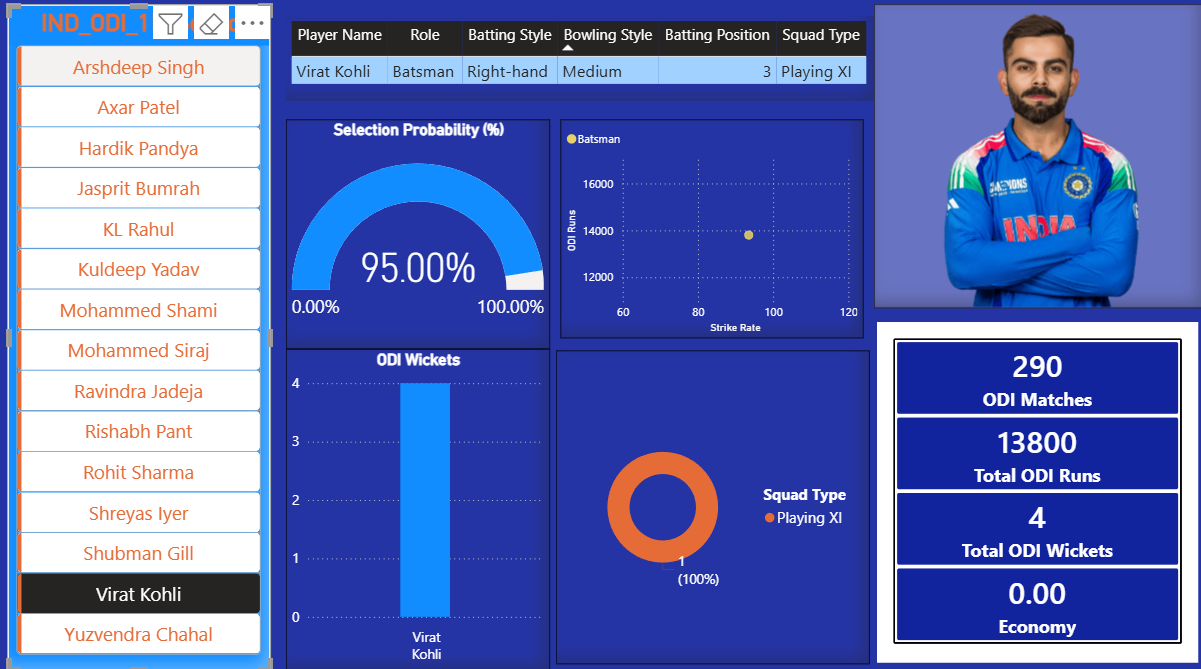

The dashboard page shown, as its layout file describes it:
{"tool":"powerbi","page":{"name":"Duplicate of Page 1","canvas":[1280,720],"ordinal":1},"visuals":[{"type":"advancedSlicerVisual","title":"IND_ODI_15_Squad","fields":{"Values":["India_Probable_15_ODI_Squad.Player Name"]},"box":[9.5,12.7,279.9,707.8],"z":0},{"type":"imageDB603108E3FF4EBFB8047F5653368E8C","fields":{"imageUrl":["India_Probable_15_ODI_Squad.Selected_Image"]},"box":[928.9,12.7,351.5,322.9],"z":1000},{"type":"cardVisual","fields":{"Data":["Sum(India_Probable_15_ODI_Squad.ODI Matches)","Sum(India_Probable_15_ODI_Squad.ODI Runs)","Sum(India_Probable_15_ODI_Squad.ODI Wickets)","Sum(India_Probable_15_ODI_Squad.Economy)"]},"box":[932.1,349.9,340.4,361.1],"z":2000},{"type":"gauge","title":"Selection Probability (%)","fields":{"Y":["India_Probable_15_ODI_Squad.selection probability %"]},"box":[305.4,135.2,279.9,243.4],"z":3000},{"type":"tableEx","fields":{"Values":["India_Probable_15_ODI_Squad.Player Name","India_Probable_15_ODI_Squad.Role","India_Probable_15_ODI_Squad.Batting Style","India_Probable_15_ODI_Squad.Bowling Style","India_Probable_15_ODI_Squad.Batting Position","India_Probable_15_ODI_Squad.Squad Type"]},"box":[305.4,25.4,623.5,90.7],"z":4000},{"type":"clusteredColumnChart","title":"ODI Wickets","fields":{"Category":["India_Probable_15_ODI_Squad.Player Name"],"Y":["Sum(India_Probable_15_ODI_Squad.ODI Wickets)"]},"box":[305,378,280,342],"z":5000},{"type":"donutChart","fields":{"Category":["India_Probable_15_ODI_Squad.Squad Type"],"Y":["CountNonNull(India_Probable_15_ODI_Squad.Player Name)"]},"box":[591.7,380.2,332.4,332.4],"z":5001},{"type":"scatterChart","fields":{"X":["Sum(India_Probable_15_ODI_Squad.Strike Rate)"],"Y":["Sum(India_Probable_15_ODI_Squad.ODI Runs)"],"Category":["India_Probable_15_ODI_Squad.Player Name"],"Series":["India_Probable_15_ODI_Squad.Role"]},"box":[596.5,135.2,321.3,232.2],"z":5002}]}

Visuals, with their boxes in screenshot pixels (x1, y1, x2, y2), scaled from the page's 1280x720 canvas onto the 1201x669 screenshot:
"IND_ODI_15_Squad" advancedSlicerVisual: <region>9, 12, 272, 668</region>
imageDB603108E3FF4EBFB8047F5653368E8C - India_Probable_15_ODI_Squad.Selected_Image: <region>872, 12, 1200, 312</region>
cardVisual - Sum(India_Probable_15_ODI_Squad.ODI Matches) x Sum(India_Probable_15_ODI_Squad.ODI Runs): <region>875, 325, 1194, 661</region>
"Selection Probability (%)" gauge: <region>287, 126, 549, 352</region>
tableEx - India_Probable_15_ODI_Squad.Player Name x India_Probable_15_ODI_Squad.Role: <region>287, 24, 872, 108</region>
"ODI Wickets" clusteredColumnChart: <region>286, 351, 549, 668</region>
donutChart - India_Probable_15_ODI_Squad.Squad Type x CountNonNull(India_Probable_15_ODI_Squad.Player Name): <region>555, 353, 867, 662</region>
scatterChart - Sum(India_Probable_15_ODI_Squad.Strike Rate) x Sum(India_Probable_15_ODI_Squad.ODI Runs): <region>560, 126, 861, 341</region>
